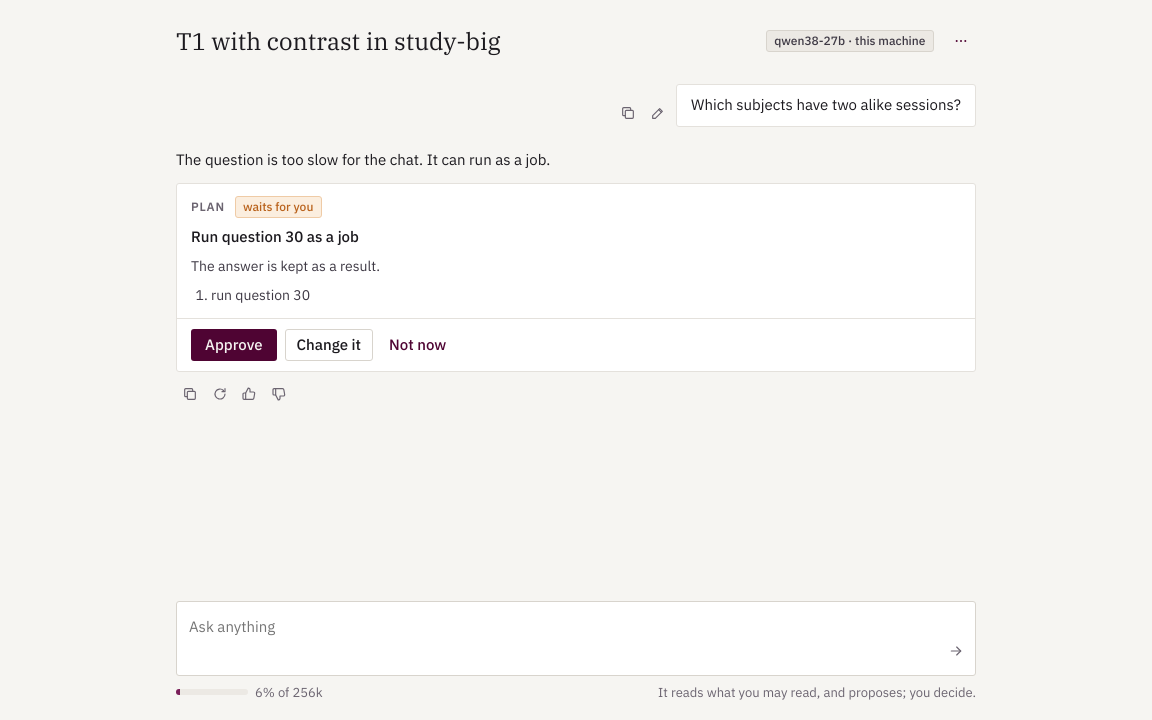
Scenario: a decision on the one card › reads the change again when a decision is refused with no word on where it stands
What coordinates should you click on to do the following:
click the button "Approve"
I would click on:
 (234, 346)
Its box is [191,330,277,362].
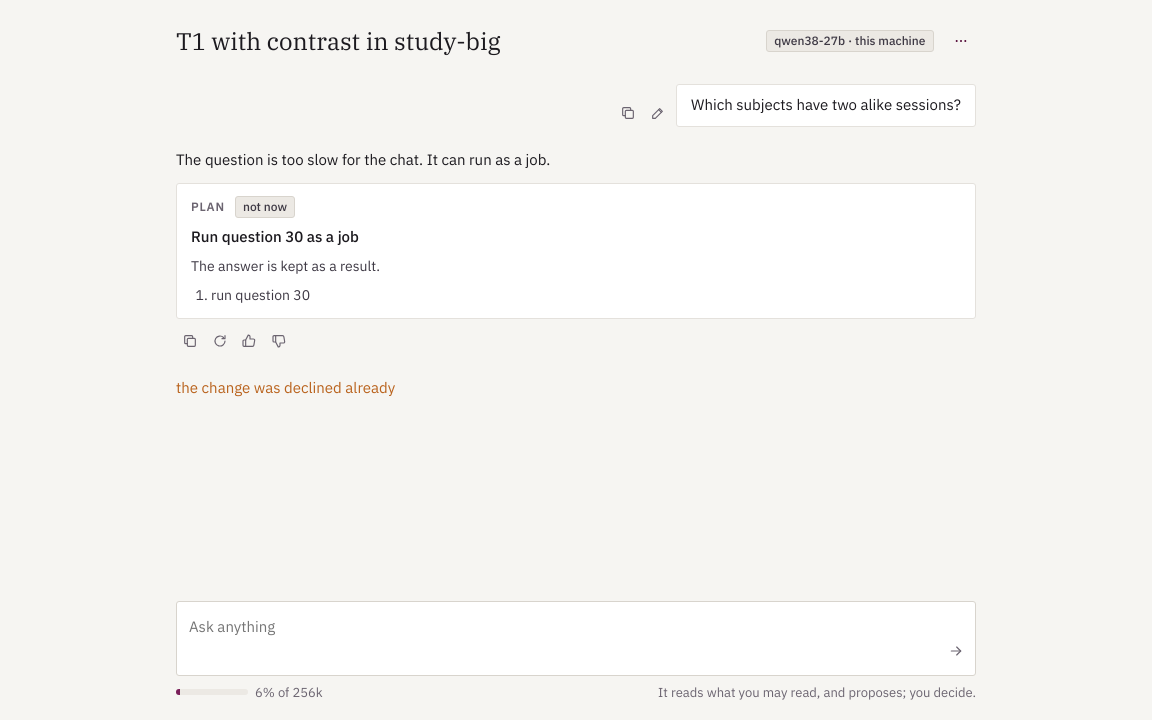
Now the text with class "warn" reads "the change was declined already", box [176,378,395,397]
